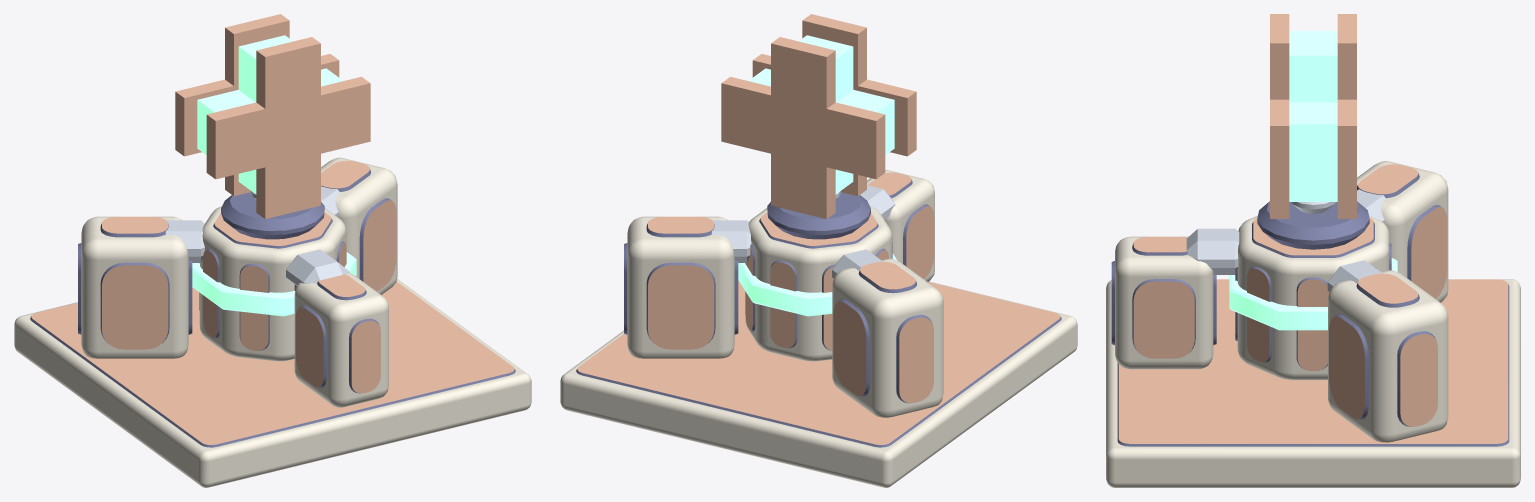
The model's file is R4X_RepairTurretDeployer.fbx.
3 renders of one model, left to right at view 1: azimuth 30°, elevation 25°; view 2: azimuth 150°, elevation 25°; view 3: azimuth 270°, elevation 25°, orthographic. The views are drawn at different scales.
Parts seen in each view (by area): view 1: R4X_RepairTurretDeployer_Body, R4X_RepairTurretDeployer_Pod; view 2: R4X_RepairTurretDeployer_Body, R4X_RepairTurretDeployer_Pod; view 3: R4X_RepairTurretDeployer_Body, R4X_RepairTurretDeployer_Pod.
Part boxes in pixels (x1,y1,x2,y2): R4X_RepairTurretDeployer_Body: (14,157,531,487); R4X_RepairTurretDeployer_Pod: (175,14,370,361); R4X_RepairTurretDeployer_Body: (560,170,1077,487); R4X_RepairTurretDeployer_Pod: (721,14,916,361); R4X_RepairTurretDeployer_Body: (1106,161,1520,487); R4X_RepairTurretDeployer_Pod: (1229,14,1397,380).
Size of the model in its own units: 0.514 by 0.515 by 0.514.
